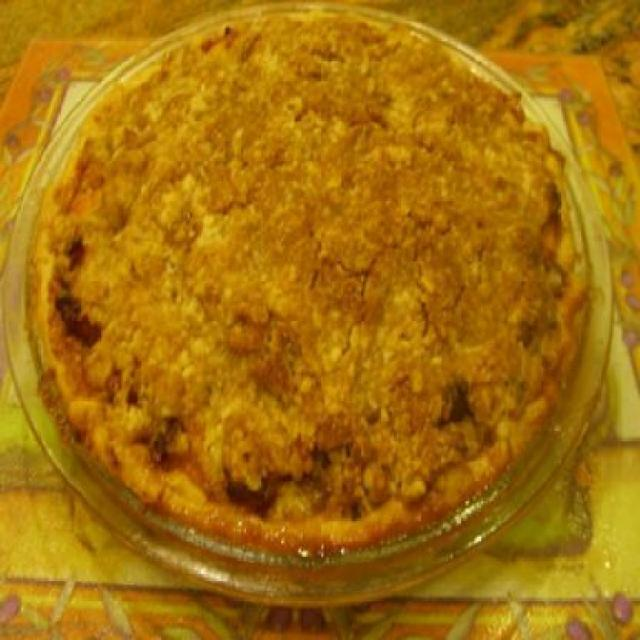Apple: (37, 15, 586, 578)
